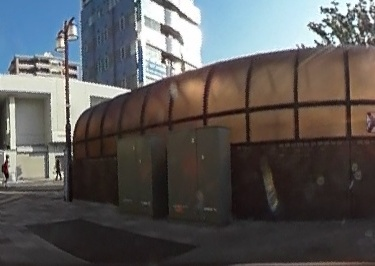person: (54, 156, 64, 179)
